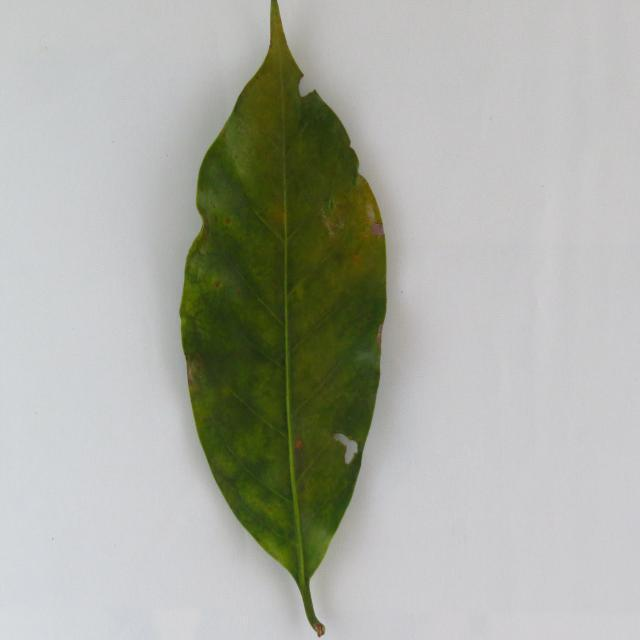DeficienciaNutricional-Potasio: (180, 0, 386, 637)
